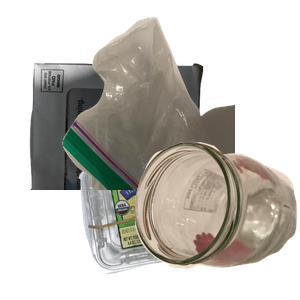glass: (132, 139, 300, 300)
paper: (27, 60, 223, 240)
plastic: (76, 151, 270, 300)
trash: (60, 14, 300, 194)
